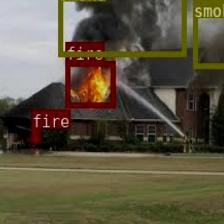fire: (64, 60, 114, 107), (30, 127, 39, 142)
smoke: (57, 0, 185, 56), (192, 0, 224, 68)
